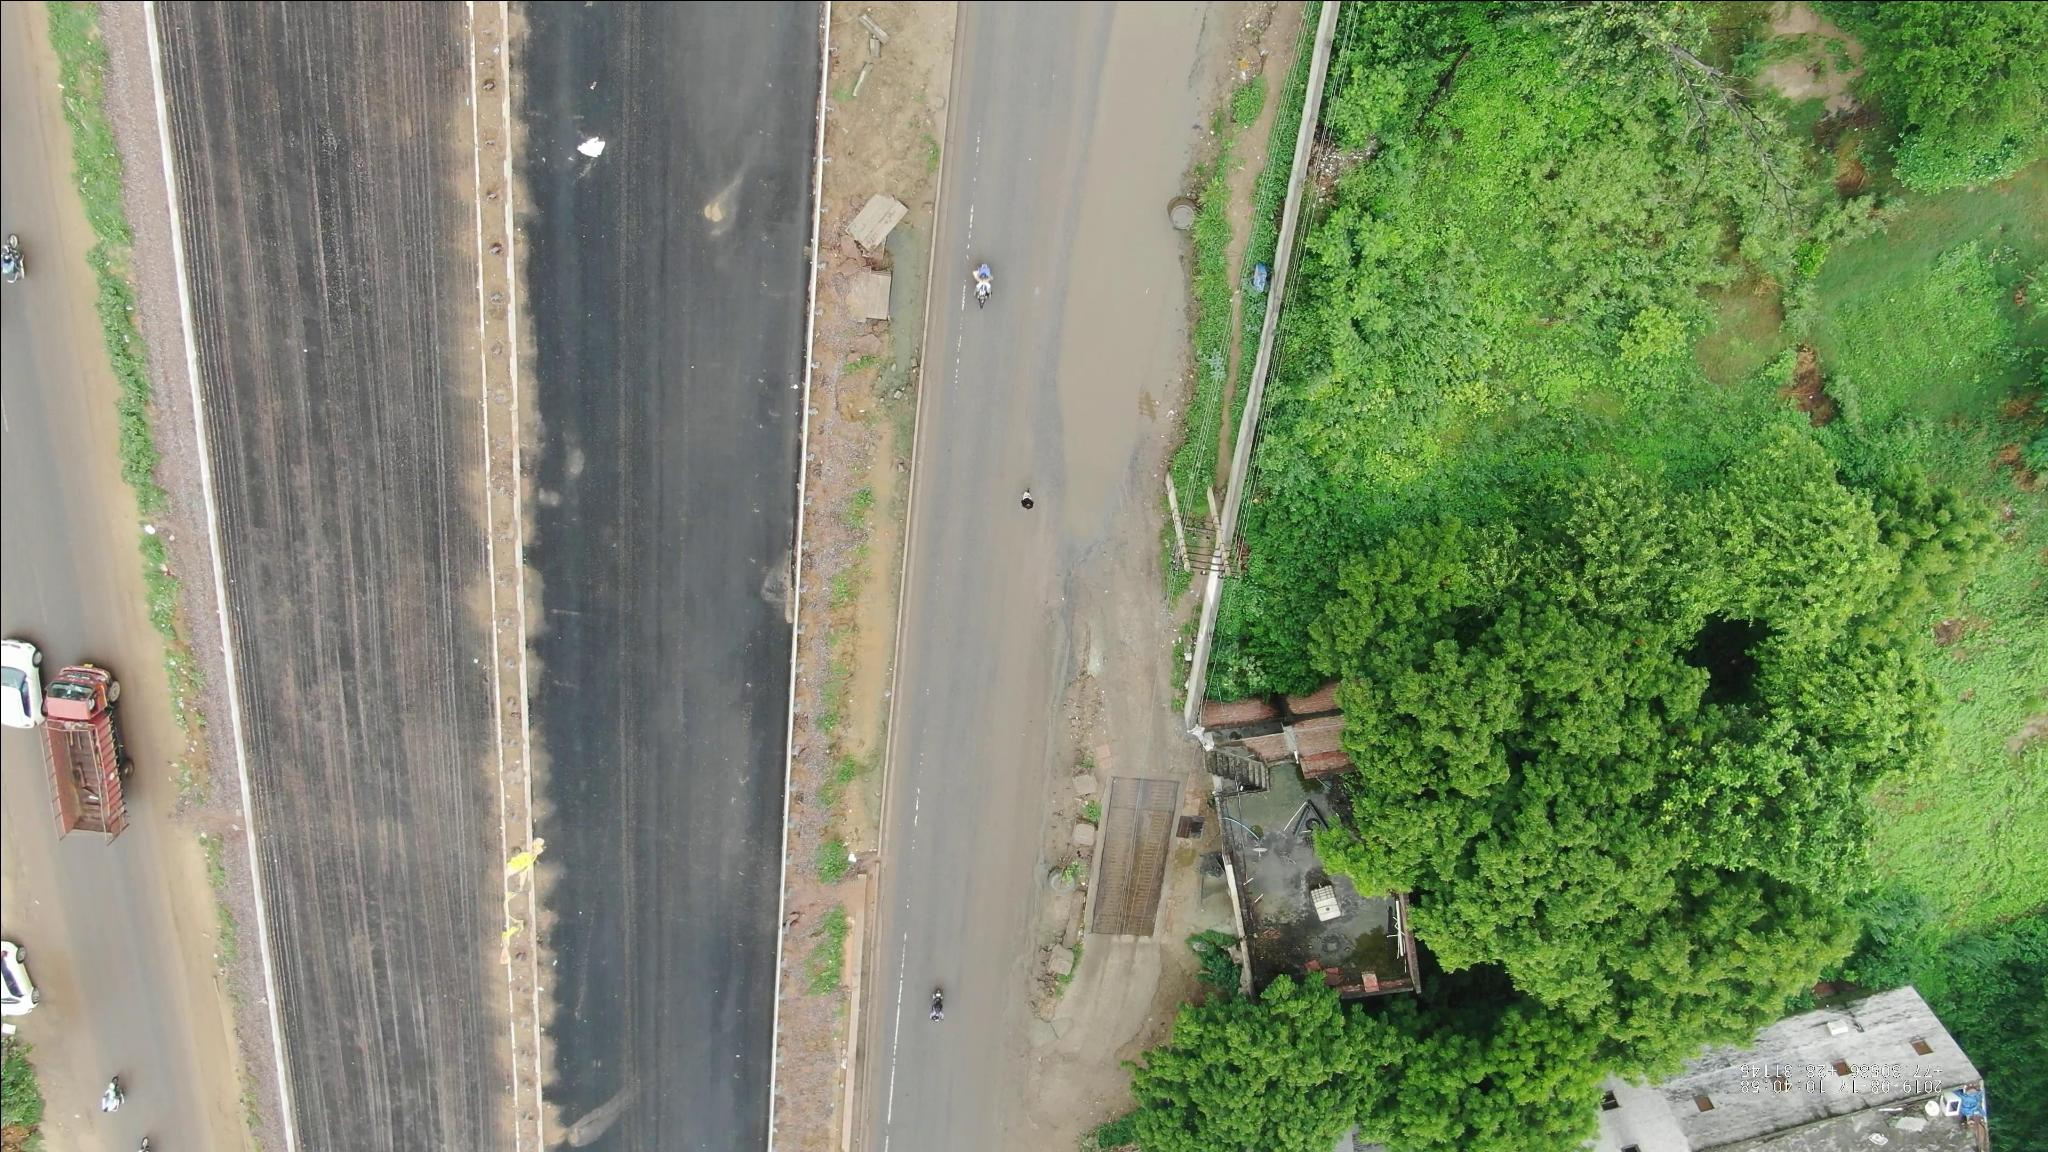Waterlogging: (1069, 117, 1172, 478)
